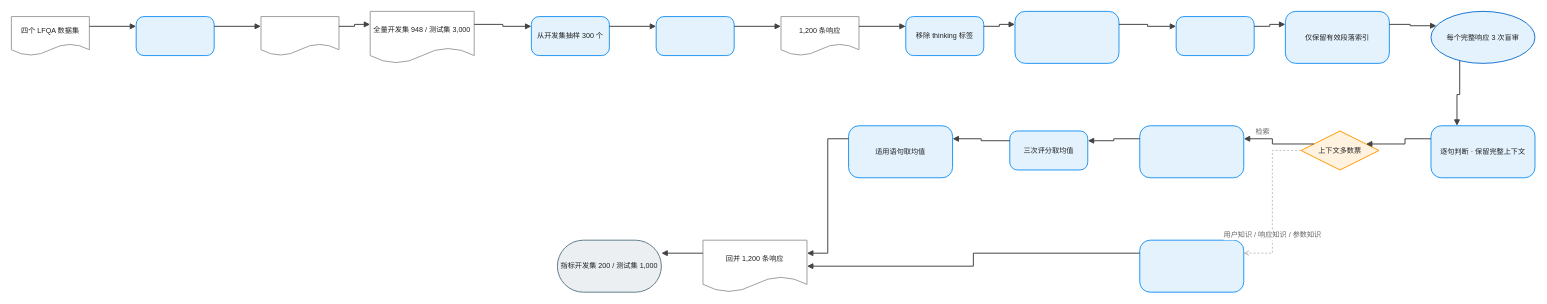
Some shapes in this 1547 by 304 pixel diagram are drawn without their labels. Each missing label, with the box of its shape:
3,948 个查询: (260, 16, 339, 56)
NLTK 3.8.1 分句: (1014, 11, 1119, 64)
其余三类上下文 · N/A: (1139, 239, 1244, 292)
四个响应模型: (655, 16, 734, 56)
检索 · 编辑 + 3 次评分: (1139, 125, 1244, 178)
正则提取引用索引: (1175, 16, 1254, 56)
每个查询 10 段: (135, 16, 214, 56)
